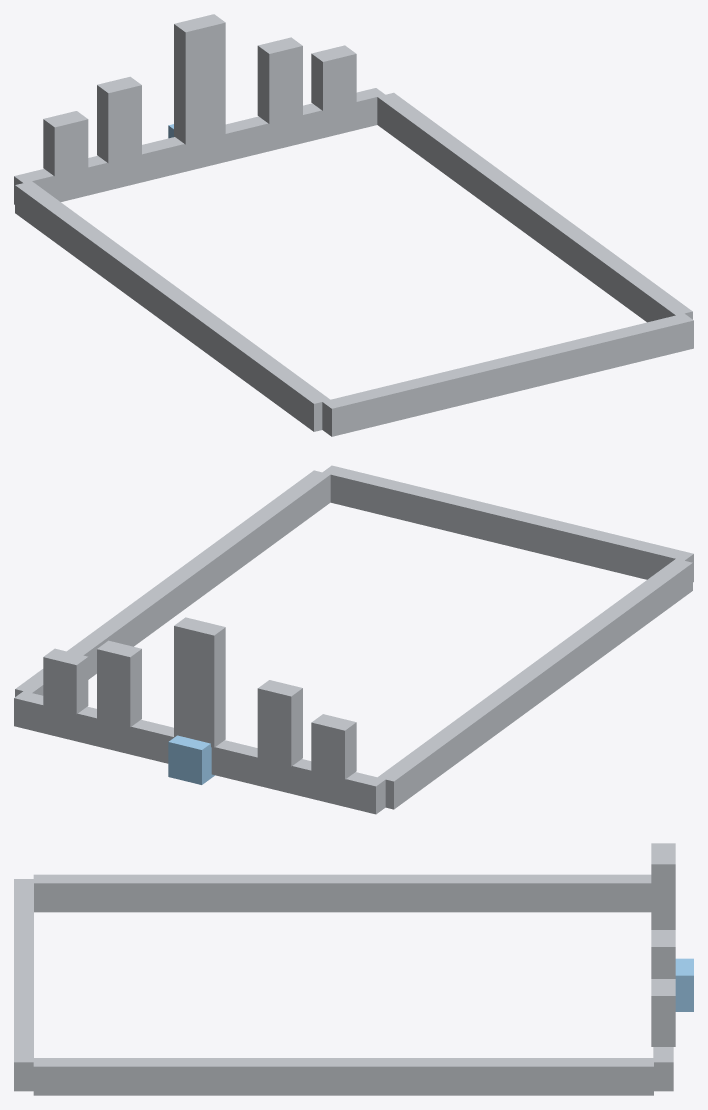
Rendered from tiara_baile.glb.
3 views of the same model, one above another, from view 1: azimuth 30°, elevation 25°; view 2: azimuth 150°, elevation 25°; view 3: azimuth 270°, elevation 25° (orthographic). The views are drawn at different scales.
Parts seen in each view (by area): view 1: tiara_baile; view 2: tiara_baile; view 3: tiara_baile.
Boxes of the visible parts, left/top/right/bottom form: tiara_baile: left=14, top=14, right=693, bottom=436; tiara_baile: left=14, top=465, right=693, bottom=814; tiara_baile: left=14, top=843, right=693, bottom=1095.
Bounding box in the file's own units: 0.565 × 0.205 × 0.8465.
